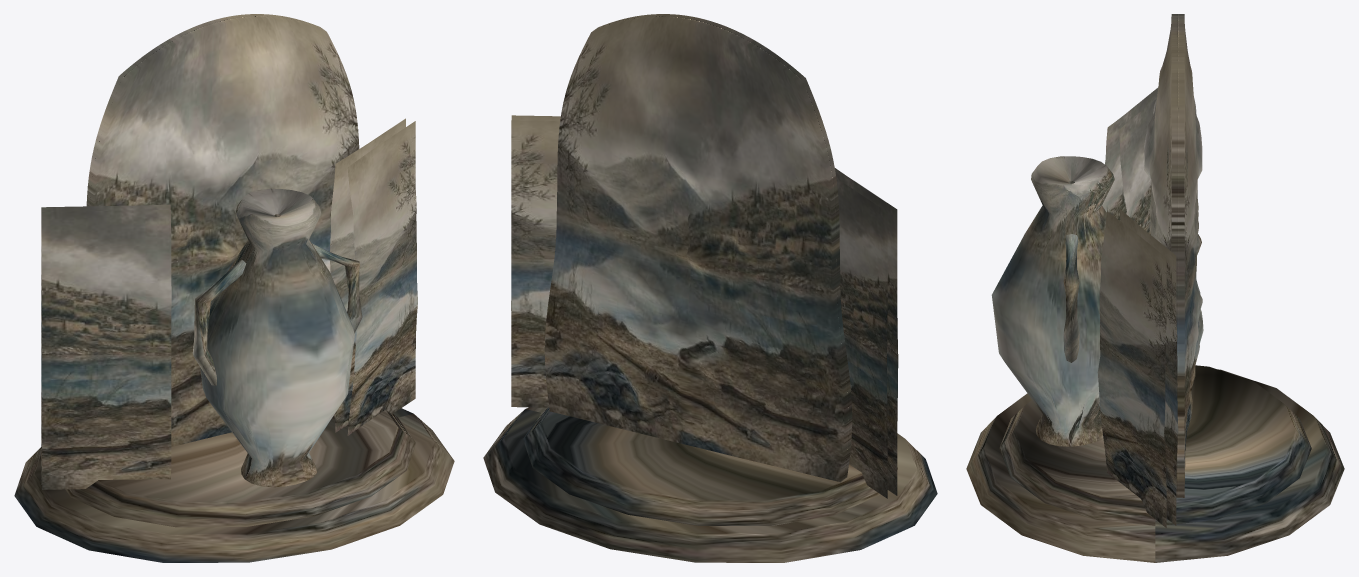
Rendered from psalms-2-5.glb.
3 views of the same model, side by side, from view 1: azimuth 30°, elevation 25°; view 2: azimuth 150°, elevation 25°; view 3: azimuth 270°, elevation 25° (orthographic). The views are drawn at different scales.
Visible parts, largest first — view 1: PaintingSculptureMonument; view 2: PaintingSculptureMonument; view 3: PaintingSculptureMonument.
Part boxes in pixels (<box>): PaintingSculptureMonument: <box>14,14,454,562</box>; PaintingSculptureMonument: <box>483,14,937,562</box>; PaintingSculptureMonument: <box>966,14,1344,562</box>.
Bounding box in the file's own units: 2.76 × 2.99 × 2.35.
Materials: 1 (1 with a texture image).
